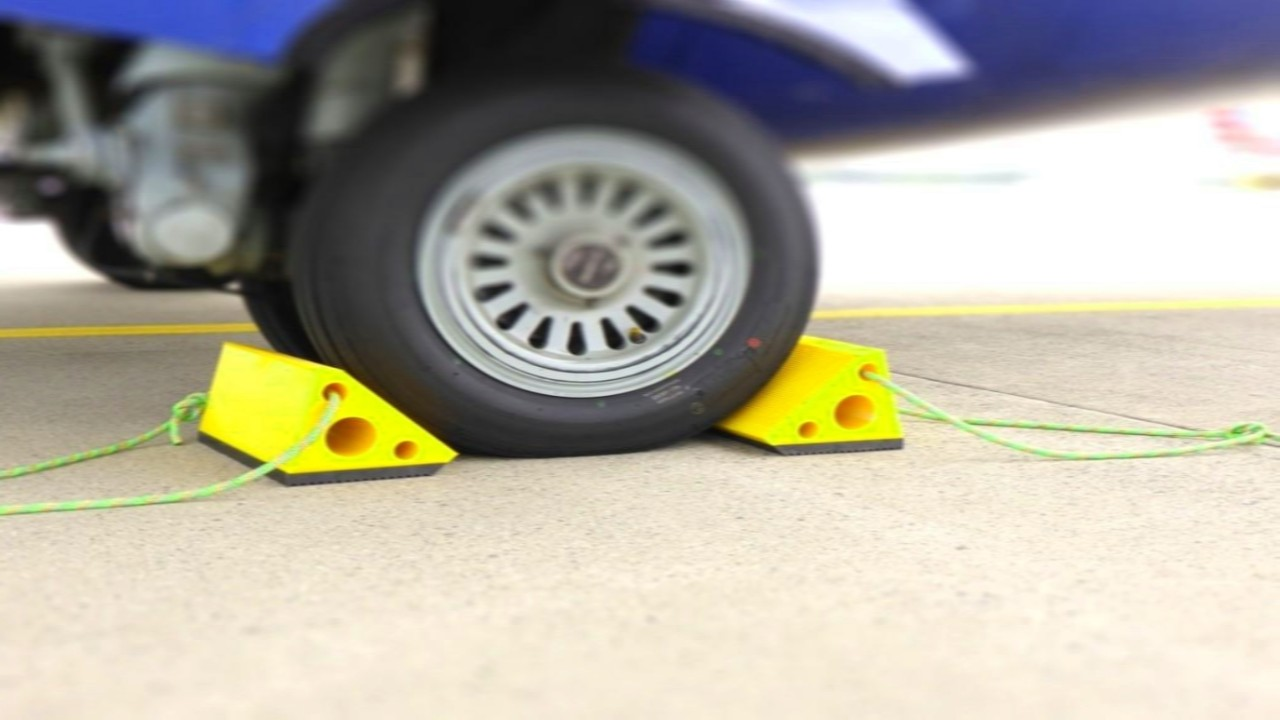chock: (200, 341, 462, 488), (710, 333, 910, 456)
wheel: (301, 70, 819, 457)
